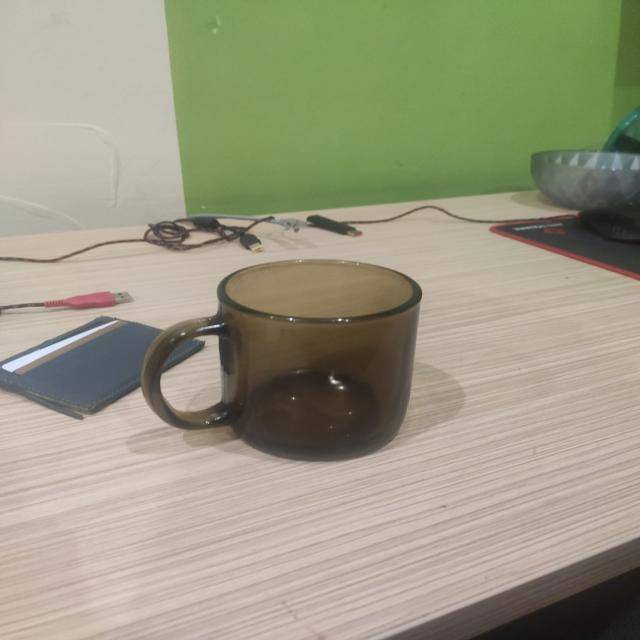cups: (140, 260, 422, 461)
